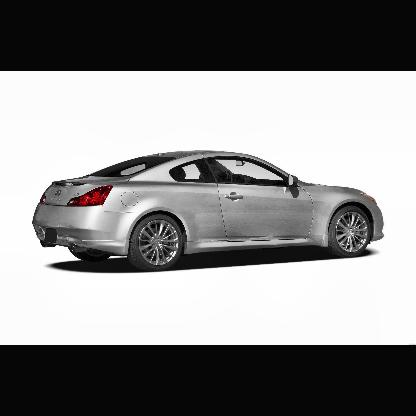Infiniti G Coupe IPL 2012: (34, 149, 386, 271)
